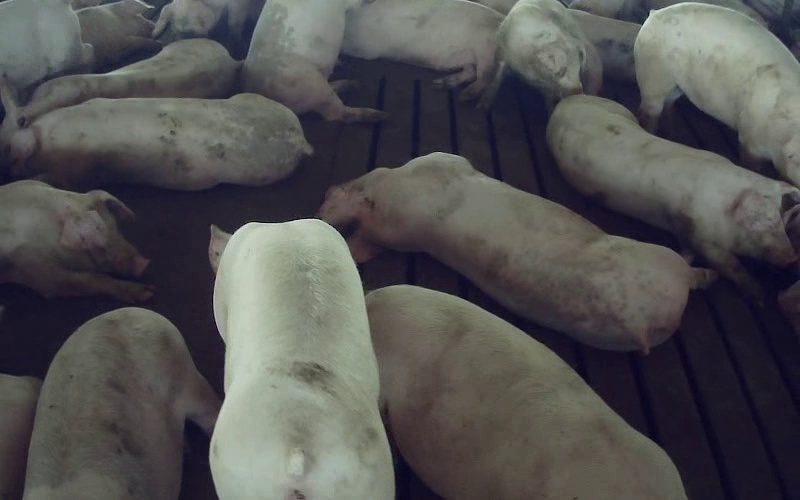pig: (318, 153, 713, 351), (367, 286, 685, 499), (547, 95, 799, 299), (209, 221, 392, 499), (0, 40, 242, 165), (634, 3, 799, 186), (11, 93, 312, 189), (242, 0, 386, 122), (341, 0, 503, 99), (481, 0, 601, 109)
